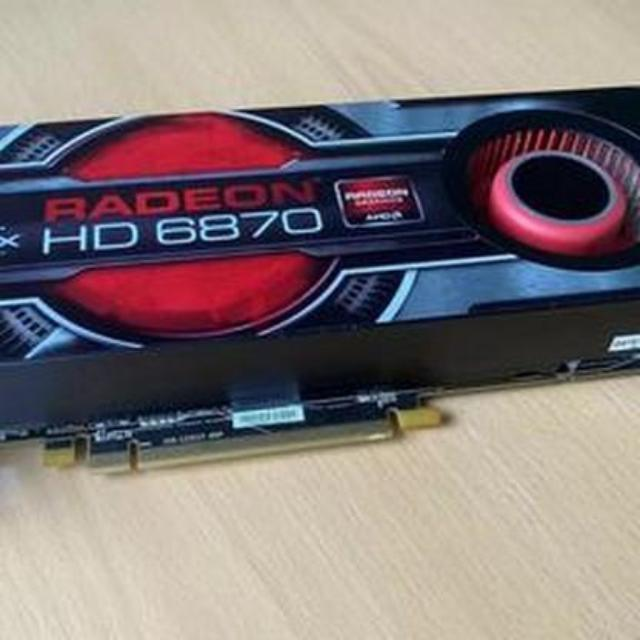GPU: (0, 88, 640, 490)
